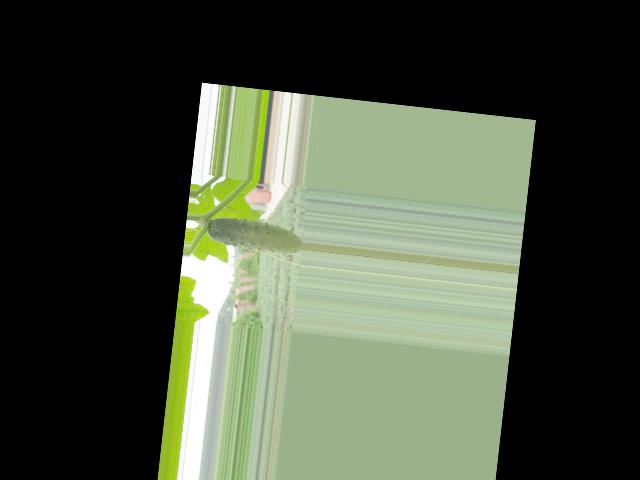cucumber: (206, 215, 305, 257)
